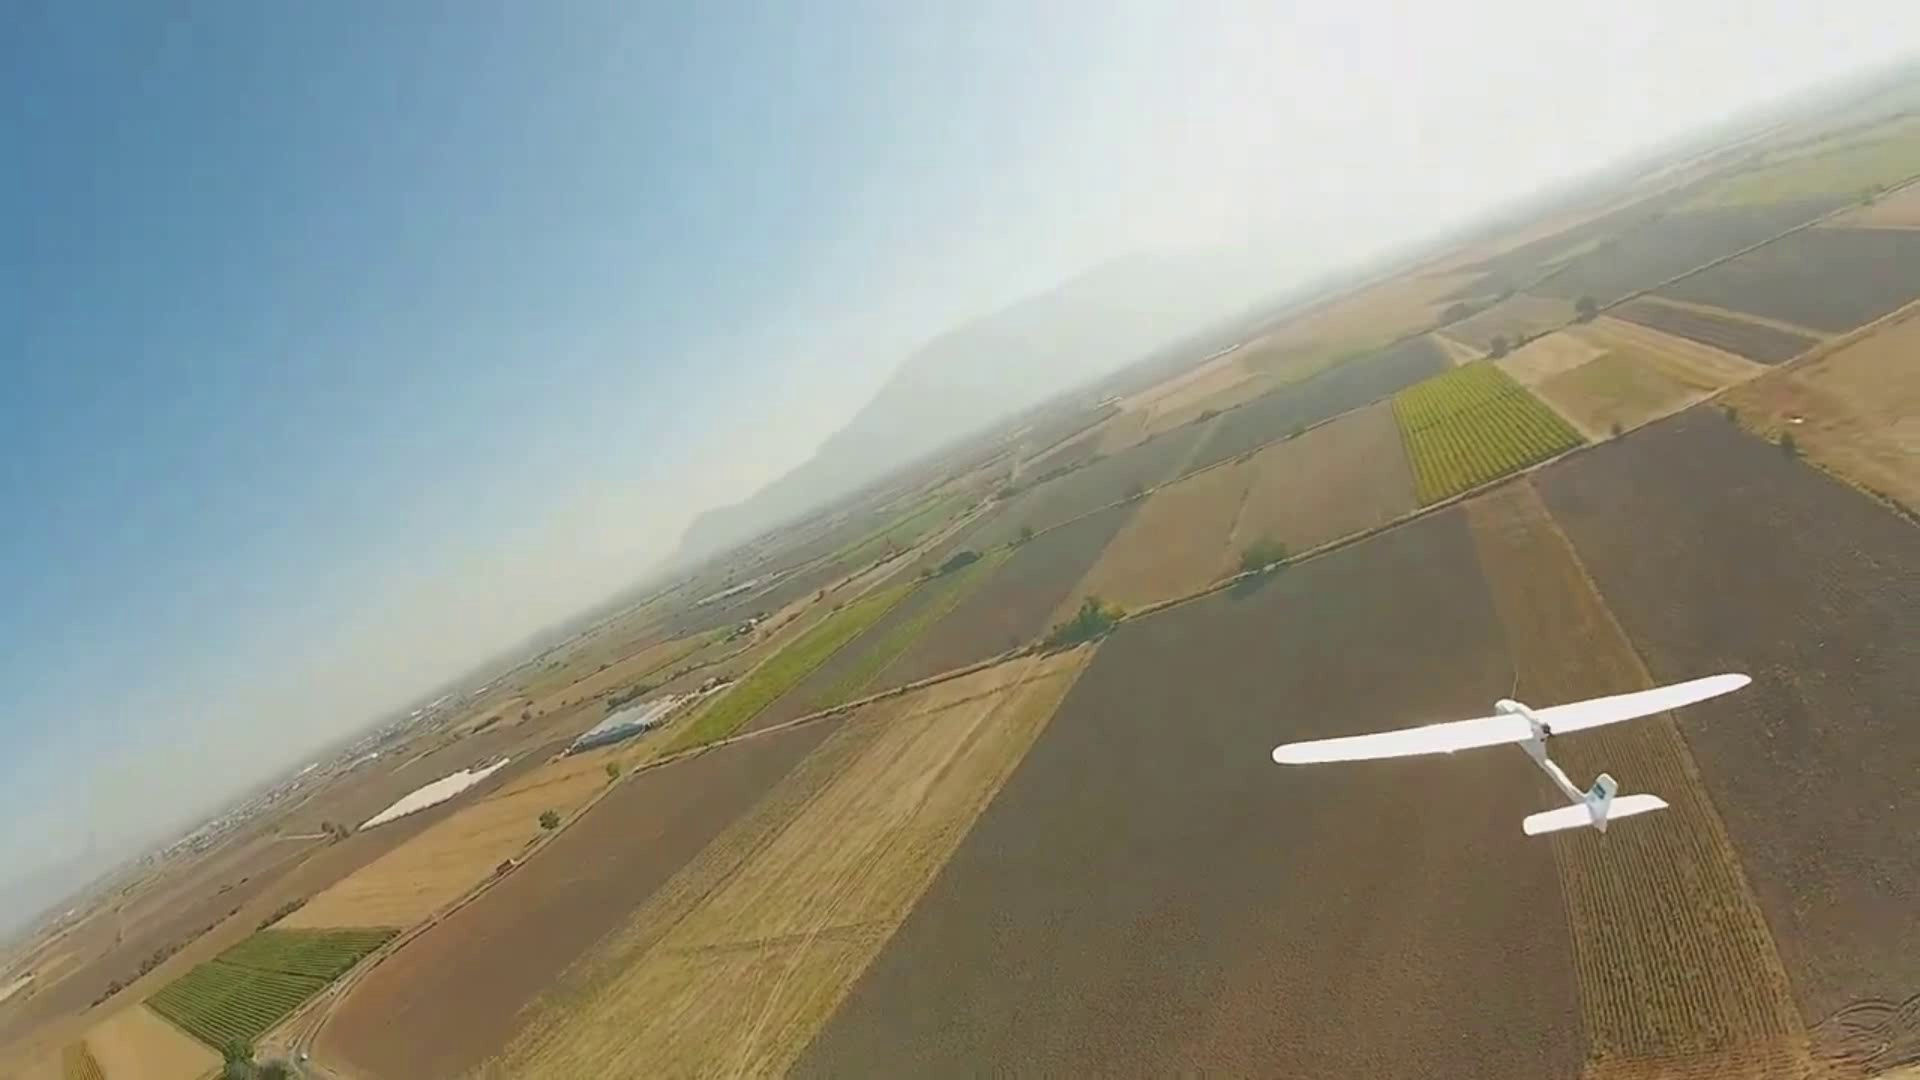airplane: (44, 51, 1919, 1070)
